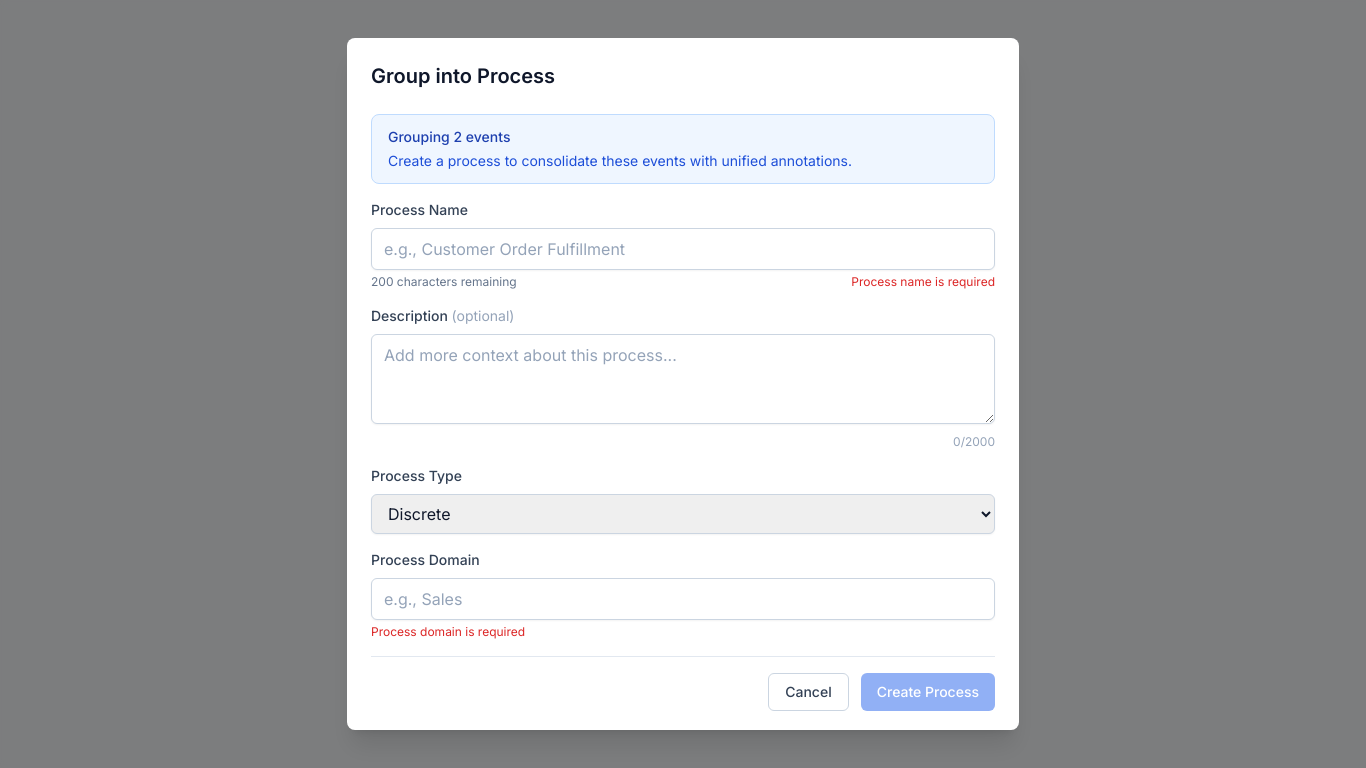
Test: ProcessGroupModal › enables create button when name is provided and at least 2 events
Type "Test Process" into the field labelled "Process Name" at (683, 249), box [371,228,995,270]
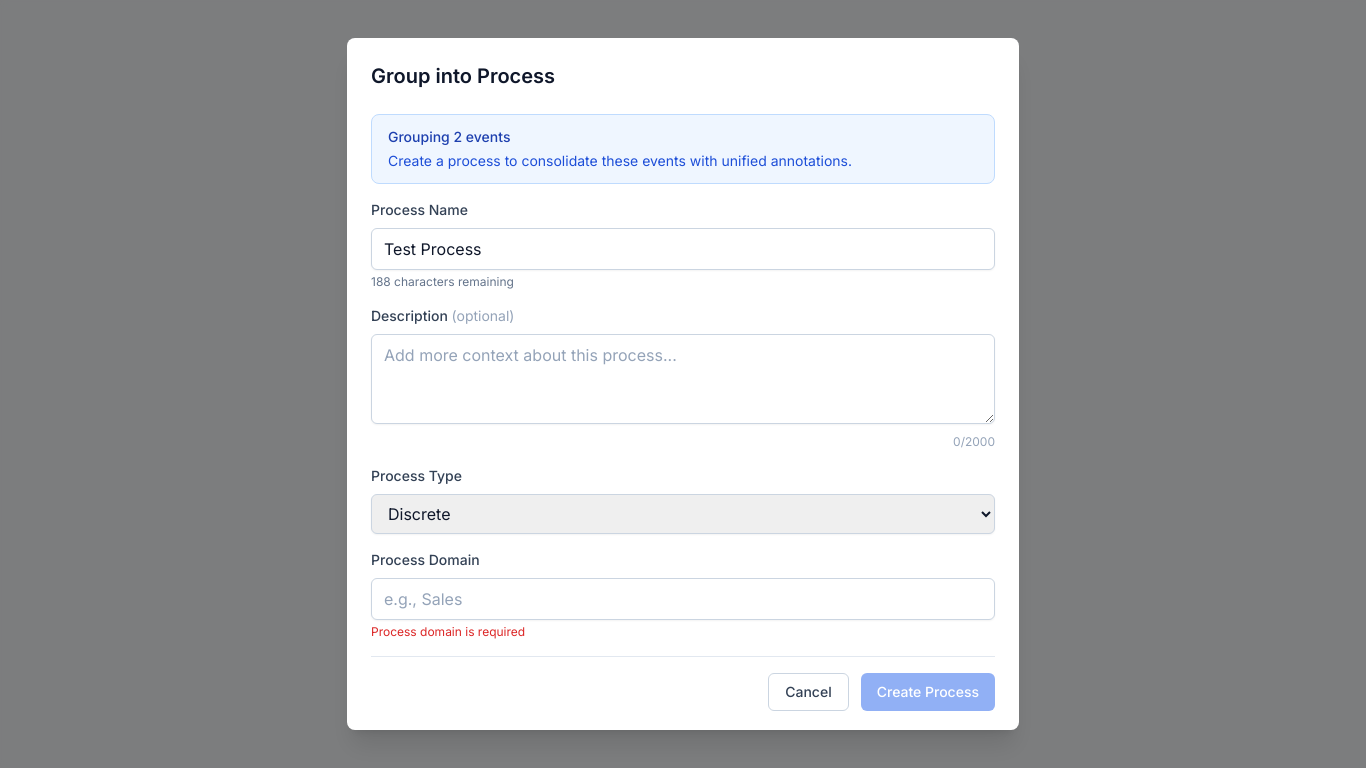
Type "Sales" into the field labelled "Process Domain" at (683, 599), box [371,578,995,620]
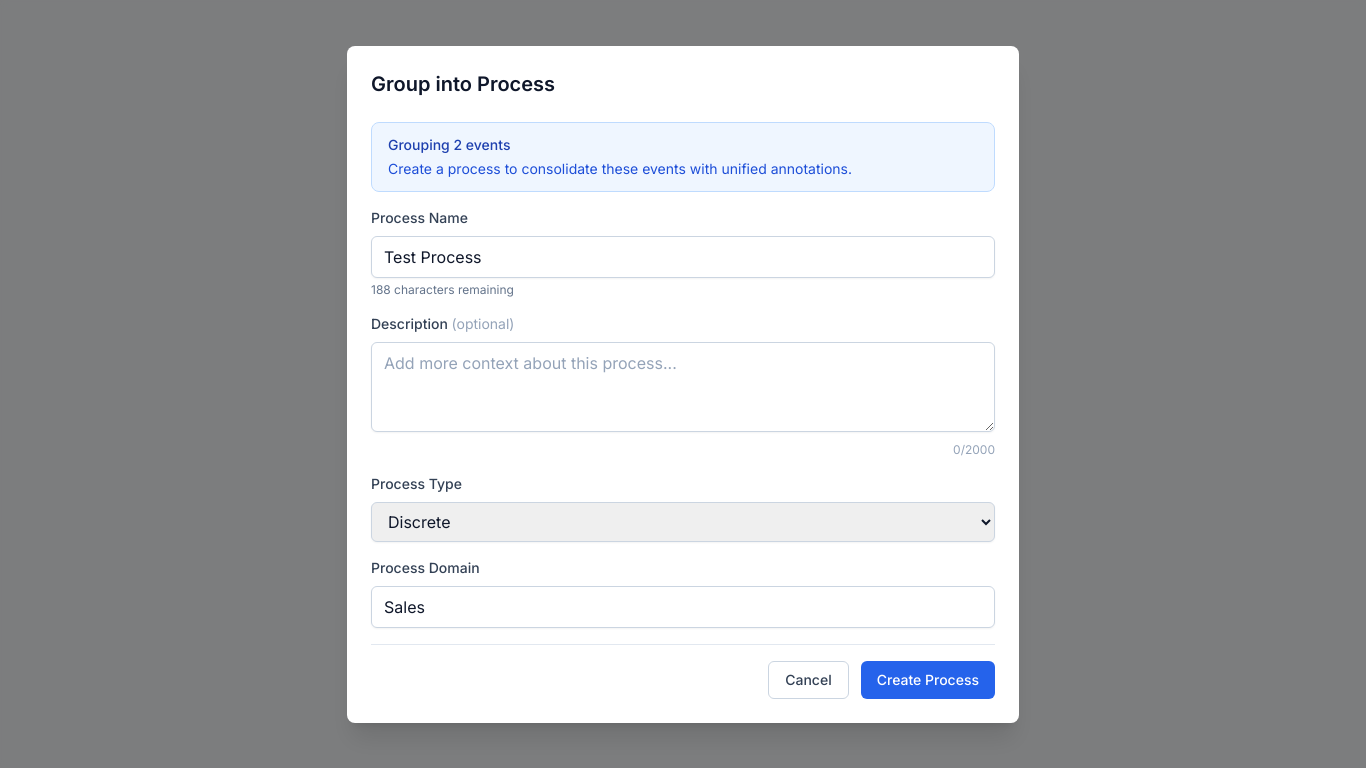
Result: the button "Create Process" is enabled at [861,660,995,698]
